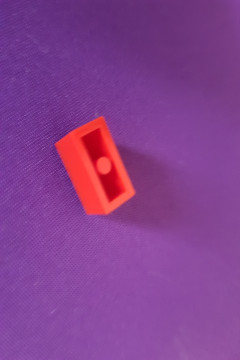1x2 red: (54, 115, 136, 220)
